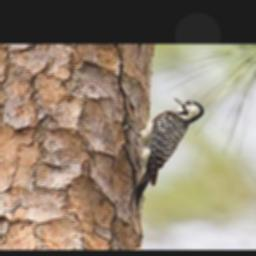Woodpecker: (123, 97, 205, 210)
